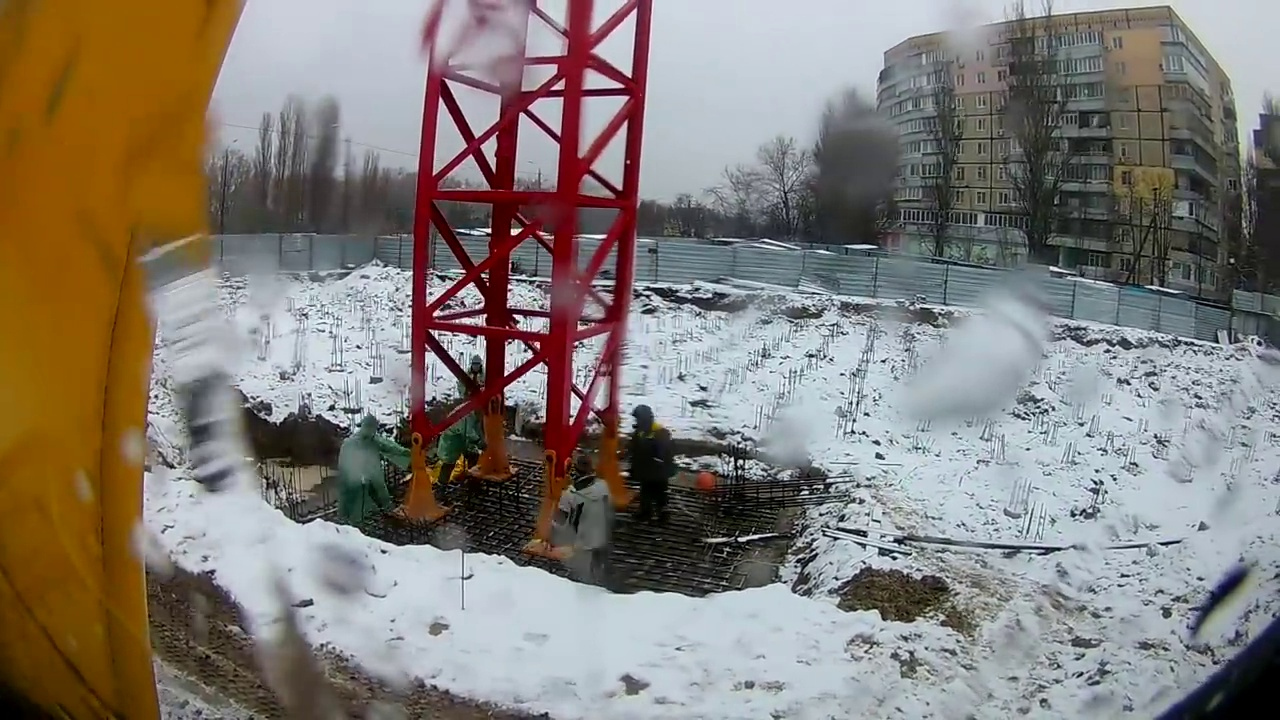helmet: (694, 471, 715, 491)
helmet-off: (569, 454, 596, 491), (629, 406, 658, 437), (469, 355, 483, 377)
person: (336, 414, 411, 524), (559, 455, 611, 584), (627, 405, 673, 530), (436, 402, 486, 493), (458, 356, 493, 436)
